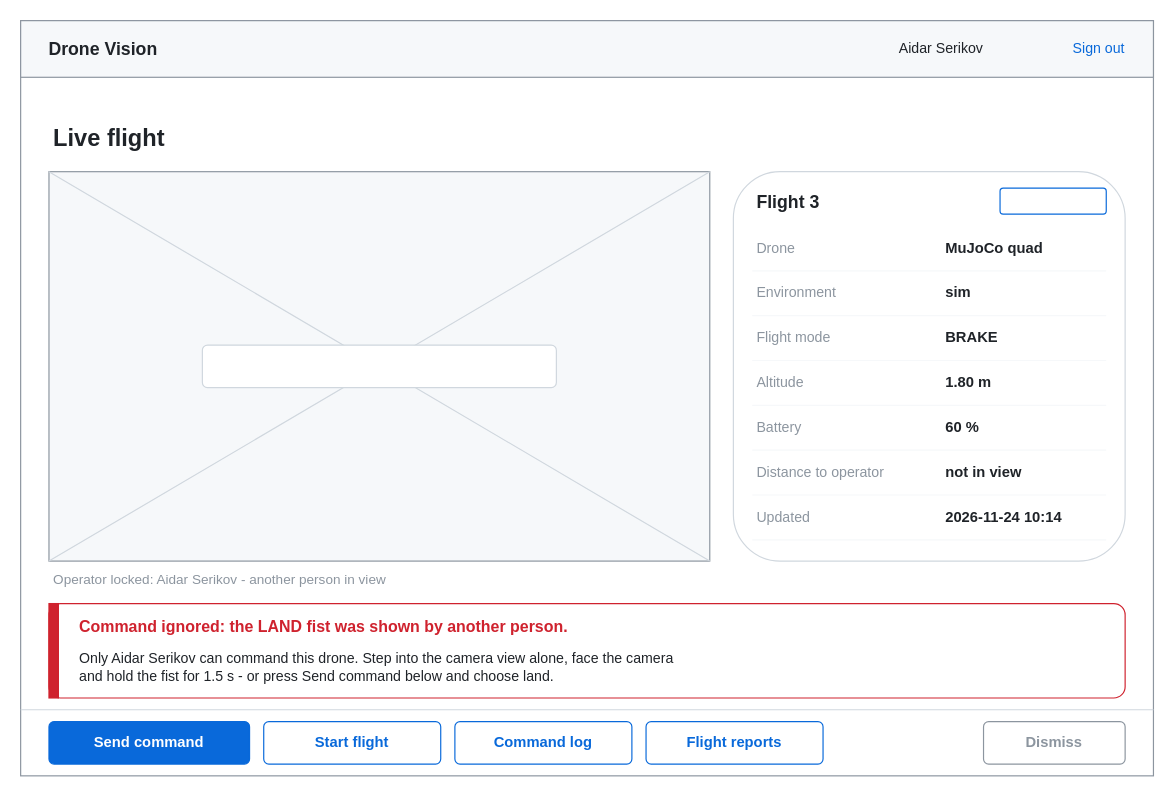
Image size: 1175x796. Some labels were removed from this diagram. Each missing label, with the box of its shape:
in flight: (999, 187, 1106, 214)
Live view - MuJoCo quad camera: (201, 344, 556, 388)
